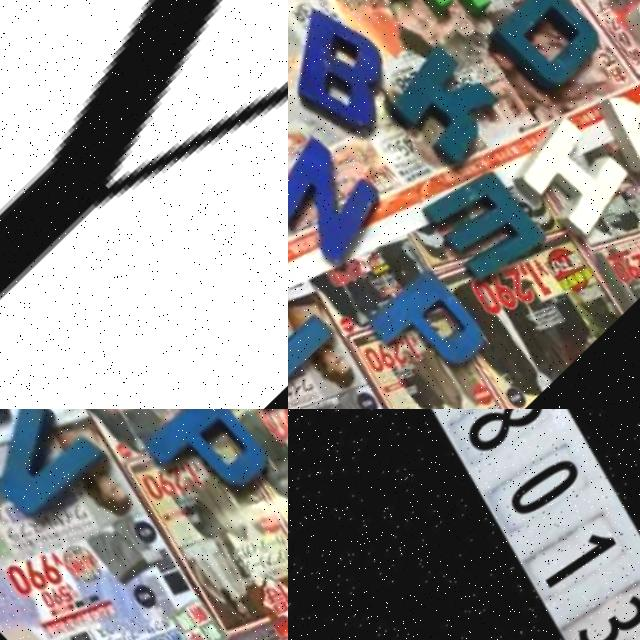0: (490, 426, 611, 543)
1: (520, 491, 640, 617)
3: (560, 566, 640, 640)
8: (442, 409, 579, 484)
B: (288, 0, 424, 155)
D: (482, 0, 627, 111)
F: (362, 0, 512, 60)
H: (505, 108, 640, 255)
J: (0, 409, 26, 475)
K: (380, 44, 520, 180)
M: (421, 162, 569, 305)
N: (288, 130, 411, 279)
P: (373, 265, 510, 398), (140, 409, 288, 528)
V: (0, 409, 127, 538), (288, 271, 353, 406)
Y: (0, 0, 288, 409)
Z: (583, 57, 640, 218)
